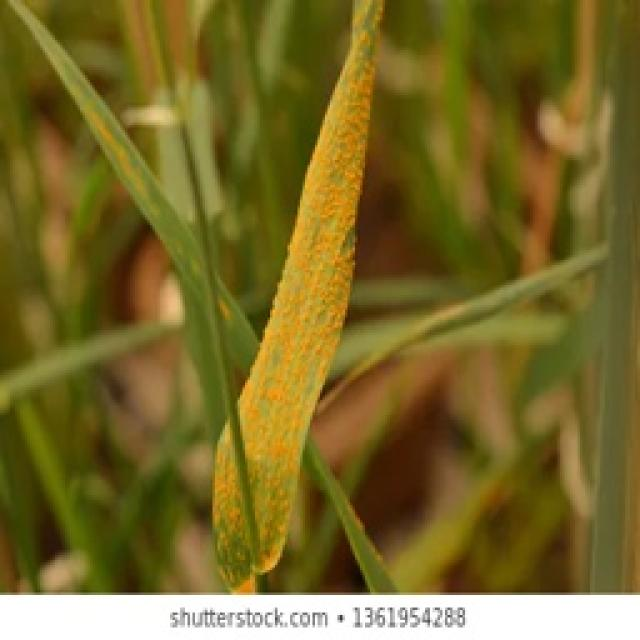Healthy Wheat: (0, 0, 638, 590)
Yellow Rust: (208, 0, 388, 590)
